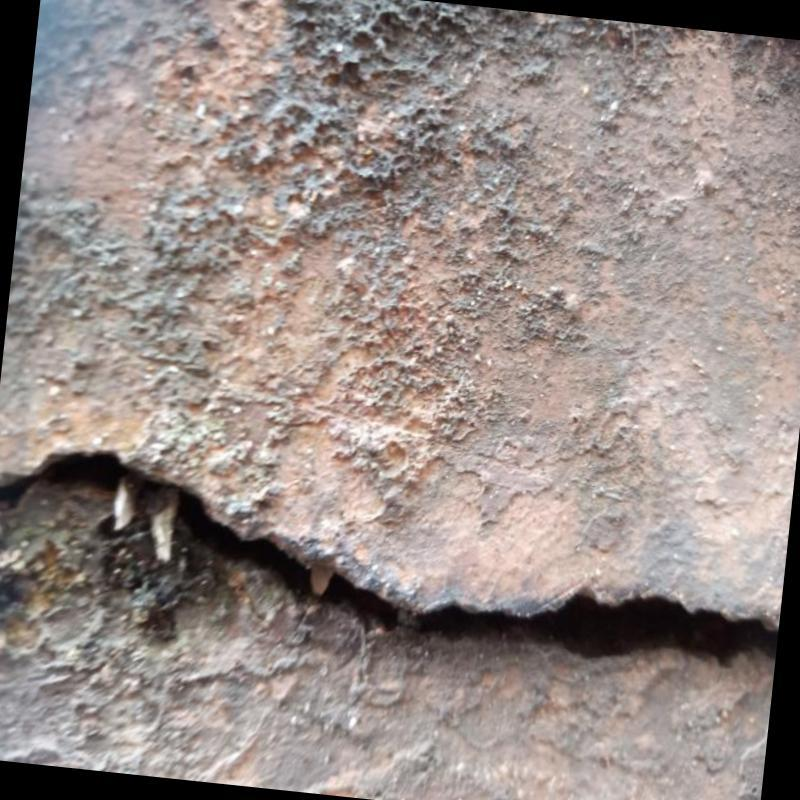pothole: (0, 454, 777, 660)
